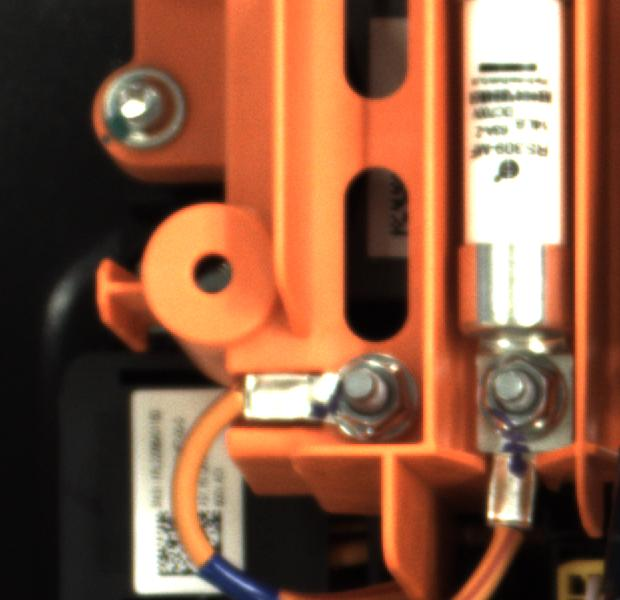screw_m: (90, 58, 199, 153)
screw_s: (465, 349, 576, 445), (317, 348, 424, 447)
